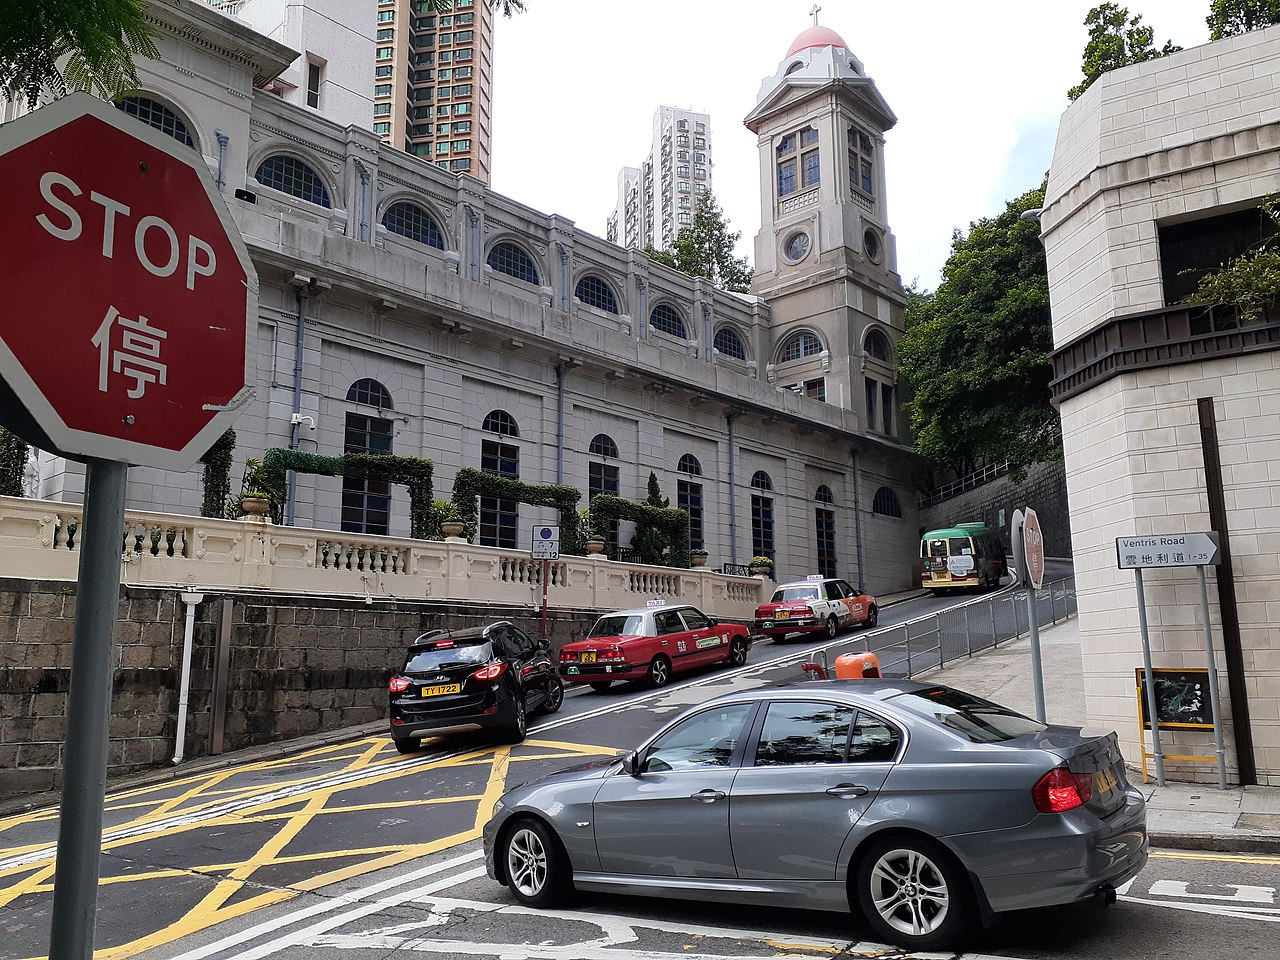Stop: (0, 107, 264, 477)
